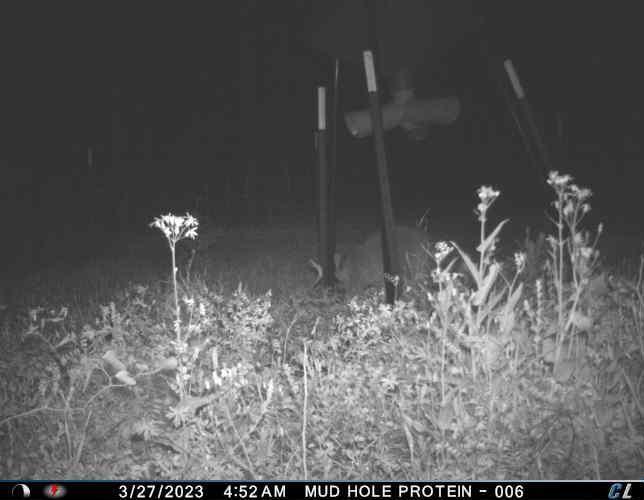Raccoon: (331, 224, 439, 304)
